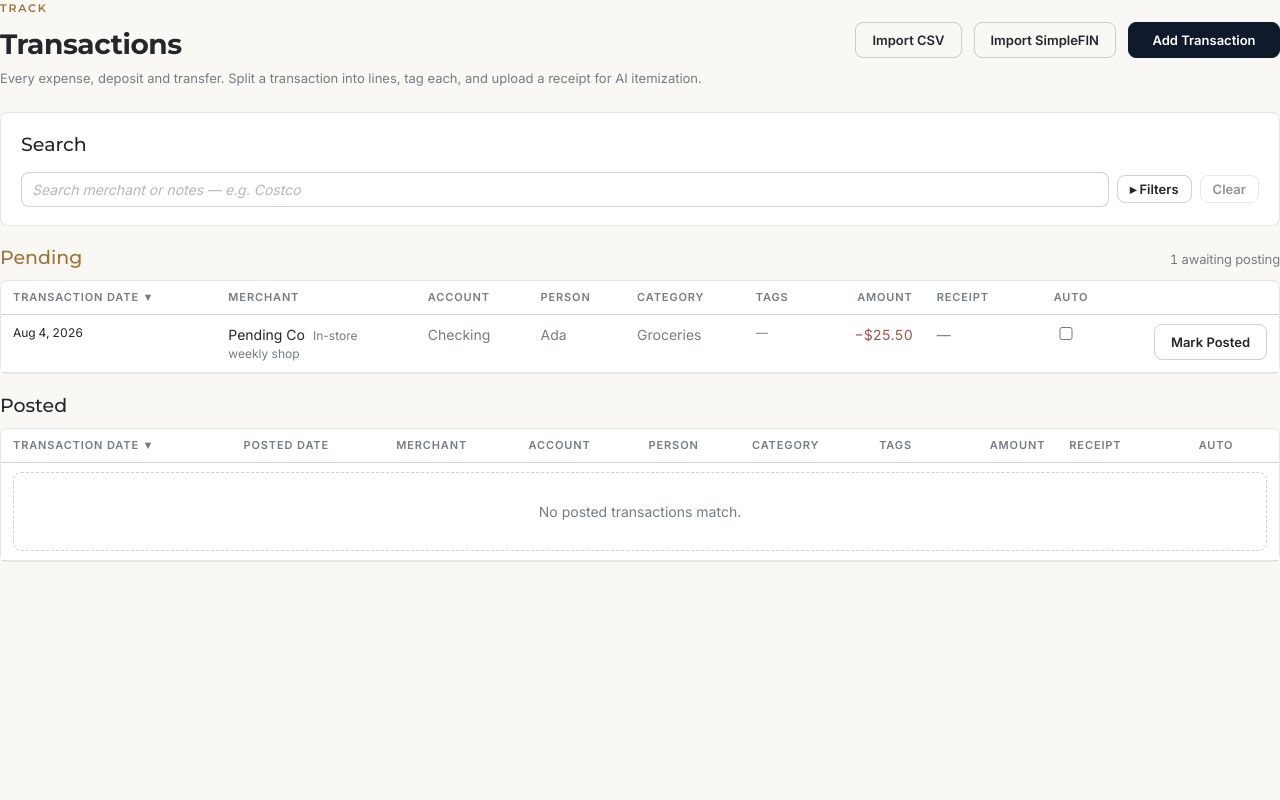
Transactions page › shows the pending section; Mark Posted asks for the date, pre-filled with the purchase date
The image size is (1280, 800).
Expected: the text "Pending Co" is shown, top-left (228, 326), bottom-right (305, 342)
Expected: the text "1 awaiting posting" is shown, top-left (1170, 250), bottom-right (1279, 269)
Click the button "Mark Posted" at (1210, 342), box top-left (1154, 324), bottom-right (1267, 360)
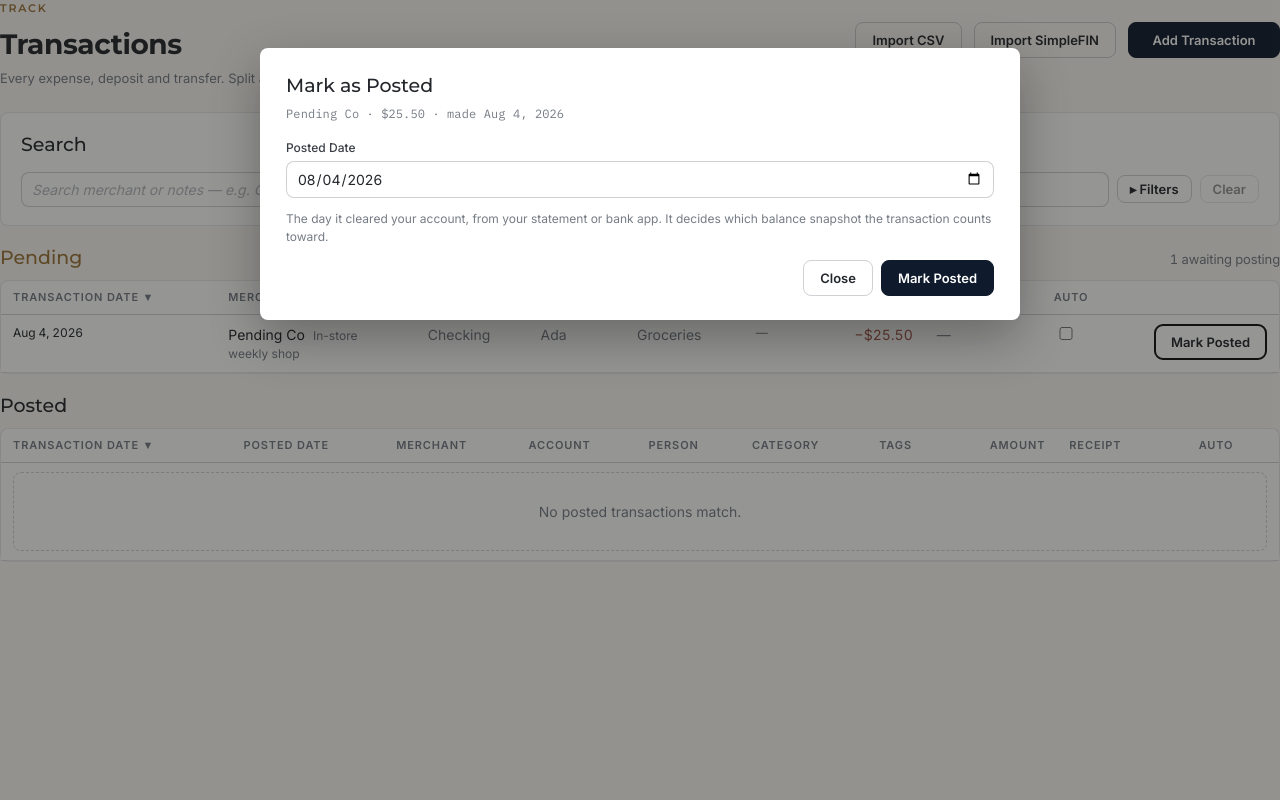
Expected: the heading "Mark as Posted" is shown, top-left (286, 74), bottom-right (433, 97)
Expected: the date field labelled "Posted Date" holds "2026-08-04"
Type "2026-08-06" into the date field labelled "Posted Date" at (640, 179), box top-left (286, 160), bottom-right (994, 198)
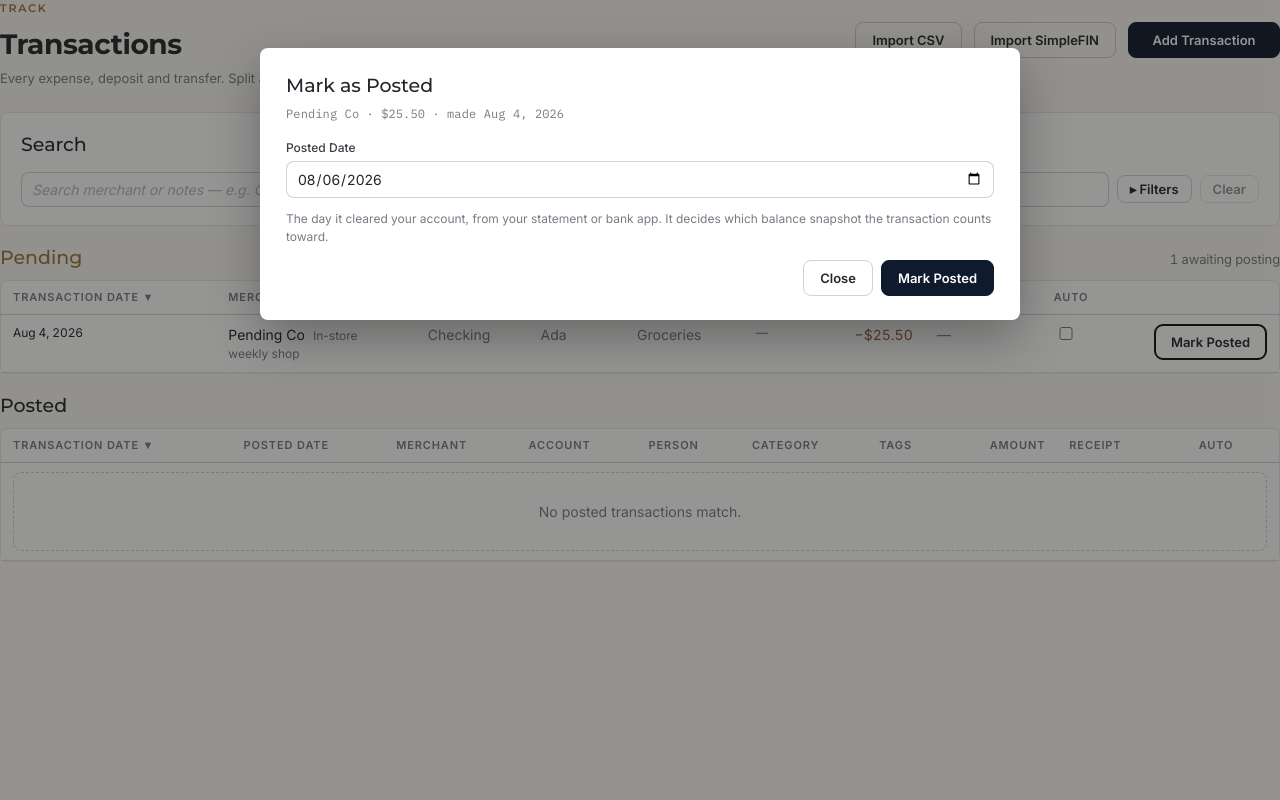
Click the button "Mark Posted" at (937, 278), box top-left (881, 260), bottom-right (994, 296)
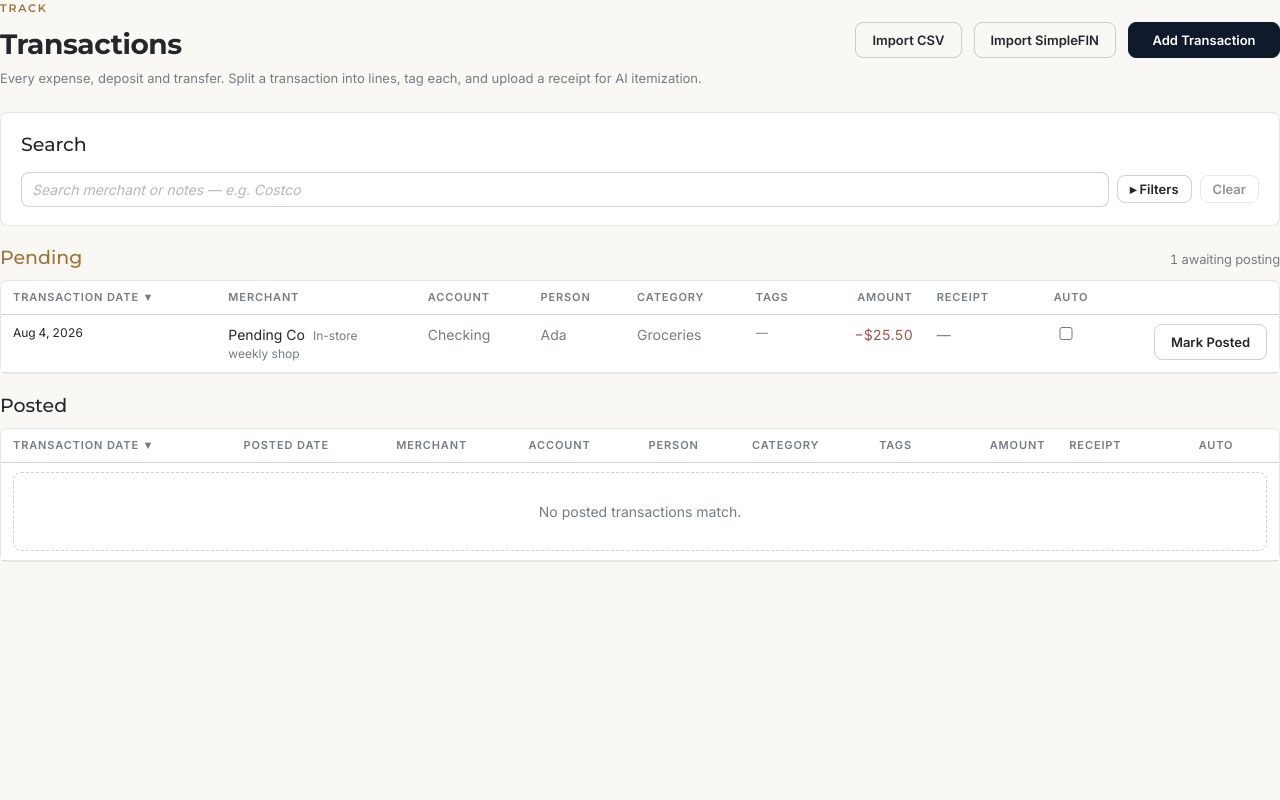
Expected: the element with class "modal" is gone
